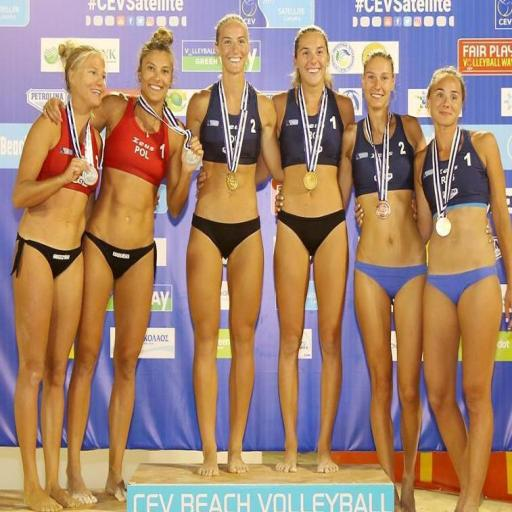person: (67, 28, 196, 503), (187, 14, 282, 475), (13, 41, 105, 511), (415, 67, 511, 511), (342, 50, 426, 511), (273, 26, 353, 473)
